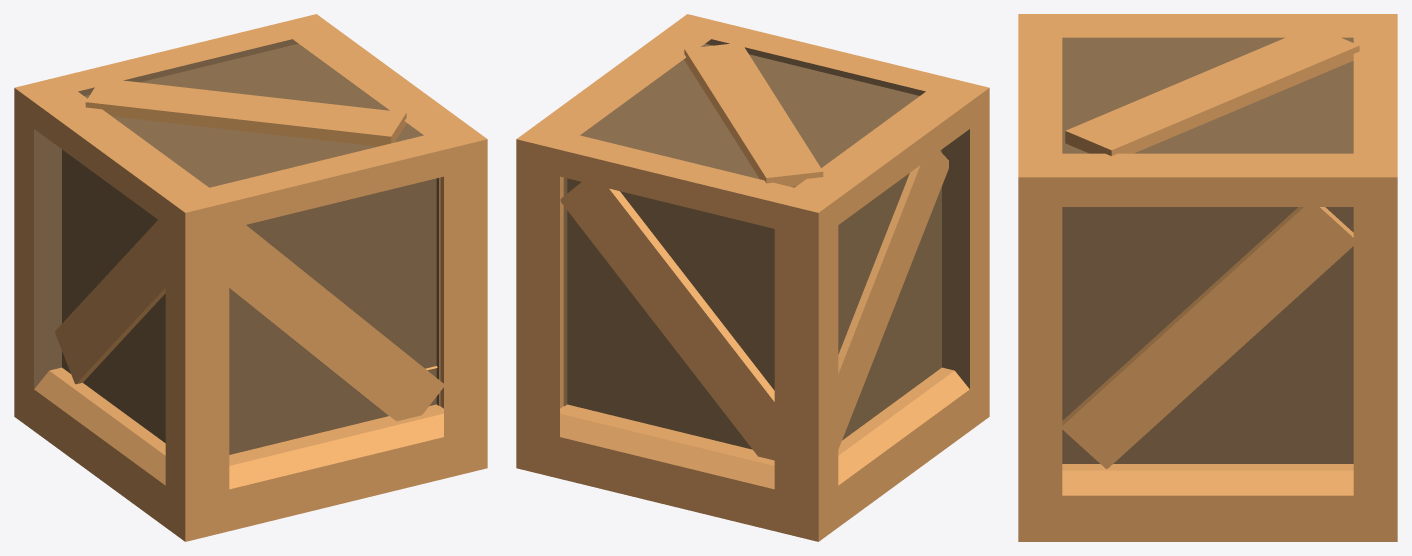
Rendered from Crate.fbx.
3 views of the same model, side by side, from view 1: azimuth 30°, elevation 25°; view 2: azimuth 150°, elevation 25°; view 3: azimuth 270°, elevation 25° (orthographic). The views are drawn at different scales.
Parts seen in each view (by area): view 1: Crate; view 2: Crate; view 3: Crate.
Part boxes in pixels (x1,y1,x2,y2): Crate: (14,14,487,541); Crate: (516,14,989,541); Crate: (1018,14,1397,541).
Bounding box in the file's own units: 81.6 × 86.27 × 80.
